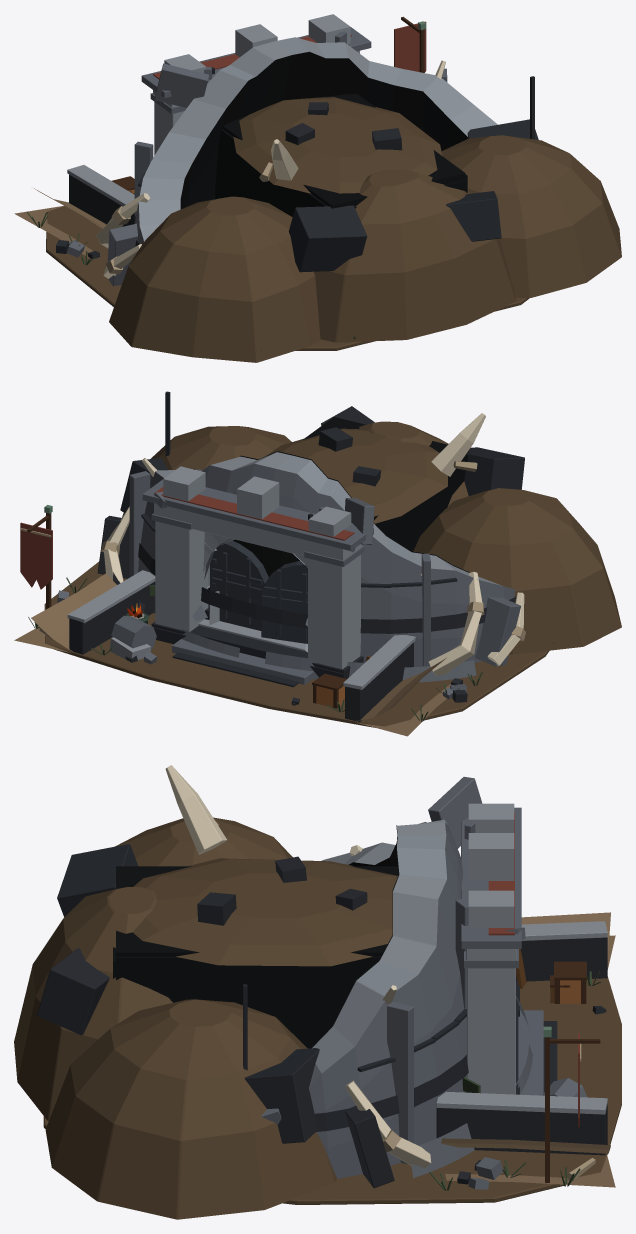
The model's file is 折壳入口_手游_近.glb.
3 renders of one model, top to bottom at view 1: azimuth 30°, elevation 25°; view 2: azimuth 150°, elevation 25°; view 3: azimuth 270°, elevation 25°, orthographic. The views are drawn at different scales.
Visible parts, largest first — view 1: FS-主体, FS-team; view 2: FS-主体, FS-team; view 3: FS-主体, FS-team.
Boxes of the visible parts, box(x1,y1,x2,y2) form: FS-主体: box(14, 14, 621, 362); FS-team: box(153, 21, 426, 79); FS-主体: box(14, 391, 621, 736); FS-team: box(20, 487, 354, 589); FS-主体: box(14, 765, 621, 1219); FS-team: box(488, 812, 579, 1127).
Bounding box in the file's own units: 12.98 × 4.56 × 10.62.
Materials: 4 (2 with a texture image).
